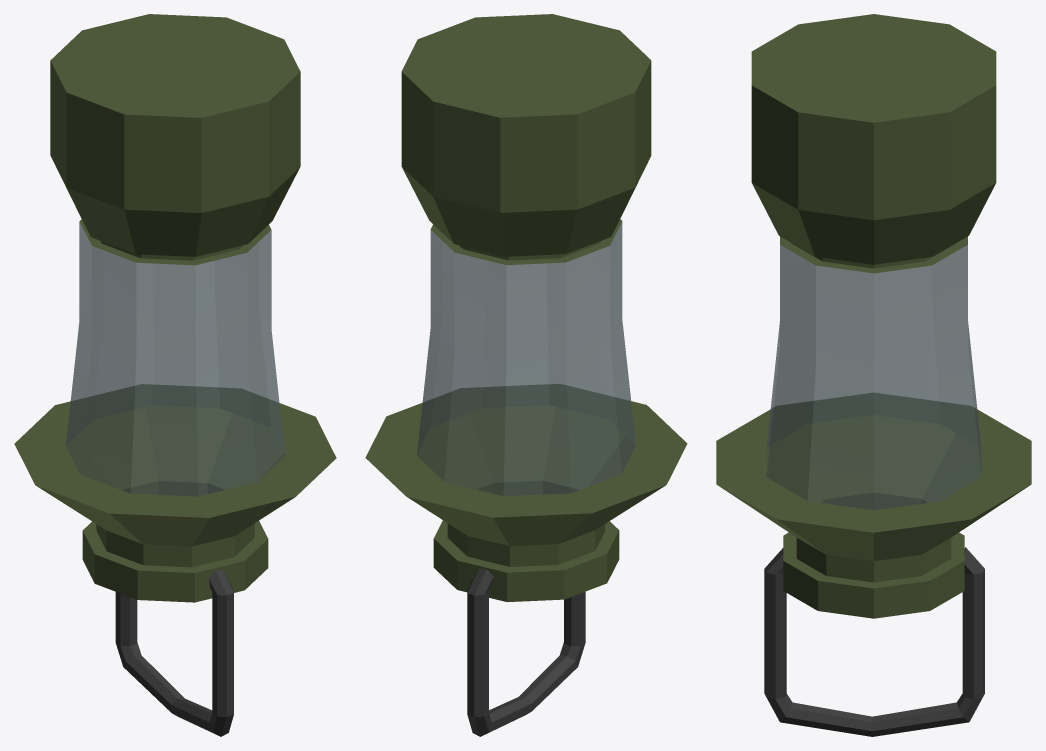
Rendered from Lamp.fbx.
3 renders of one model, left to right at view 1: azimuth 30°, elevation 25°; view 2: azimuth 150°, elevation 25°; view 3: azimuth 270°, elevation 25°, orthographic. The views are drawn at different scales.
Parts seen in each view (by area): view 1: Lamp; view 2: Lamp; view 3: Lamp.
Part boxes in pixels (<box>): Lamp: <box>14,14,336,736</box>; Lamp: <box>365,14,687,736</box>; Lamp: <box>716,14,1031,736</box>.
Bounding box in the file's own units: 0.8091 × 1.79 × 0.7695.
